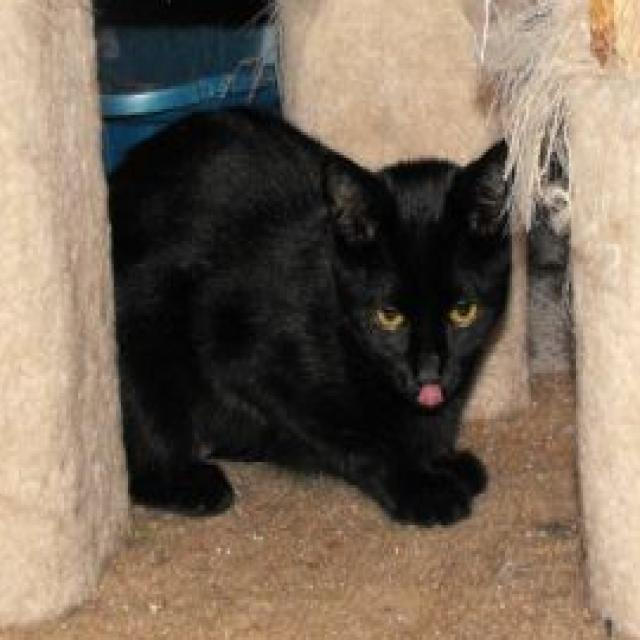Bombay: (88, 100, 518, 532)
